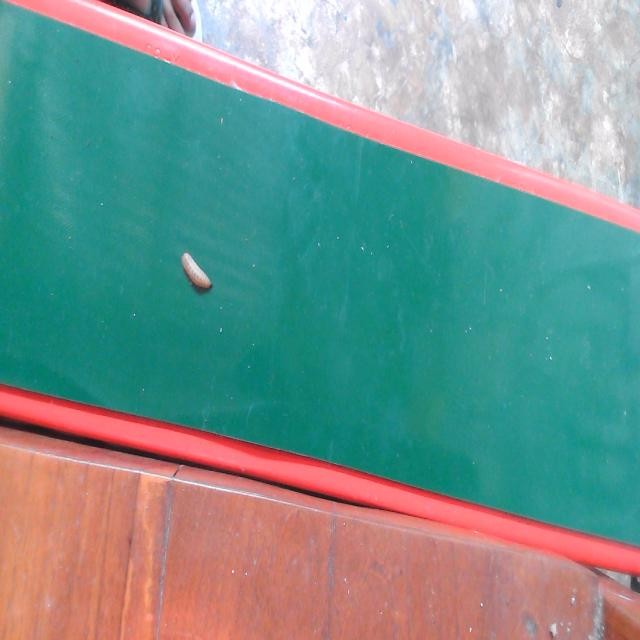Maggot: (179, 248, 222, 299)
